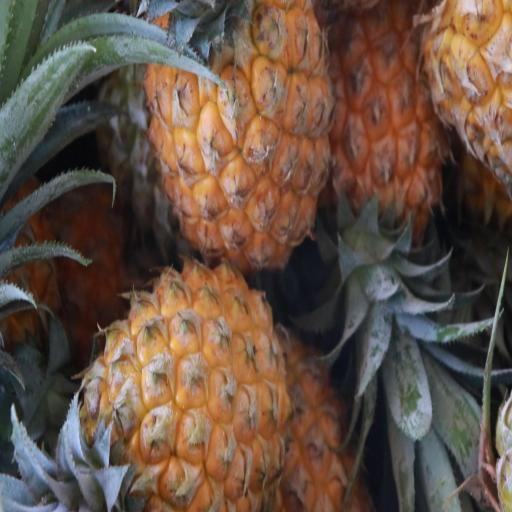Pineapple - v8 v1: (71, 263, 288, 512), (145, 0, 329, 268), (326, 0, 455, 247)
